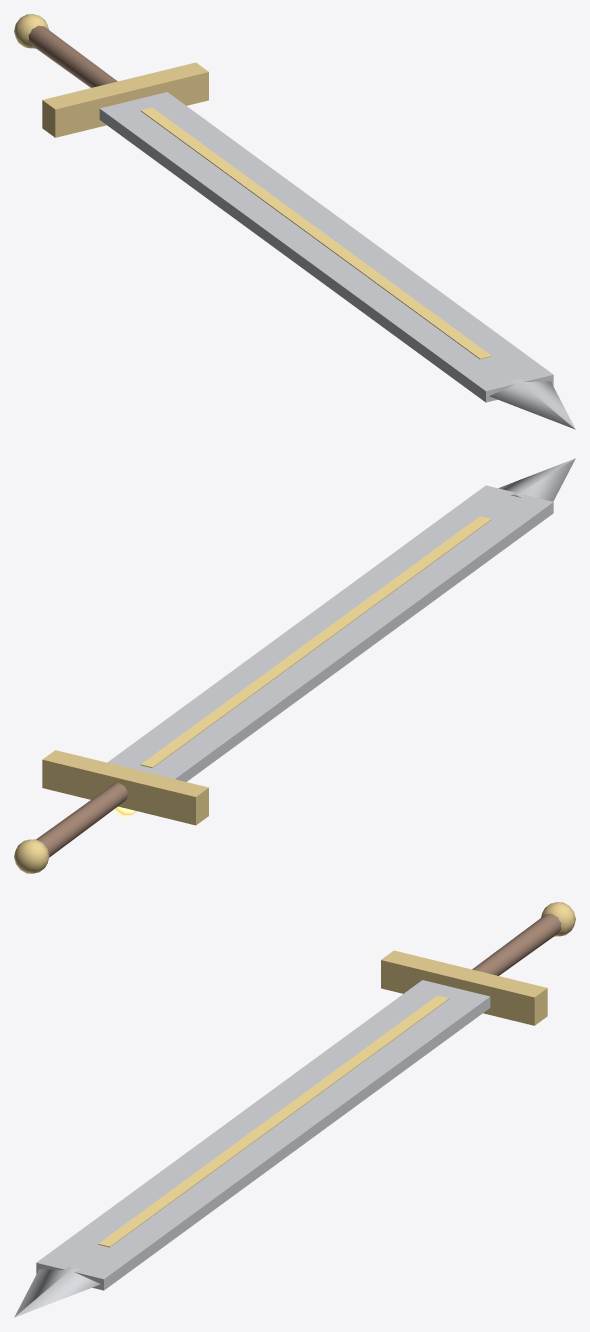
File: garrick_right.glb
The picture shows the model from 3 angles, top to bottom: view 1: azimuth 30°, elevation 25°; view 2: azimuth 150°, elevation 25°; view 3: azimuth 330°, elevation 25°; orthographic projection.
Visible parts, largest first — view 1: garrick_right; view 2: garrick_right; view 3: garrick_right.
Boxes of the visible parts, x1,y1,x2,y2 form: garrick_right: (14,14,575,429); garrick_right: (14,458,575,873); garrick_right: (14,902,575,1317).
Bounding box in the file's own units: 0.34 × 0.0915 × 2.12.
